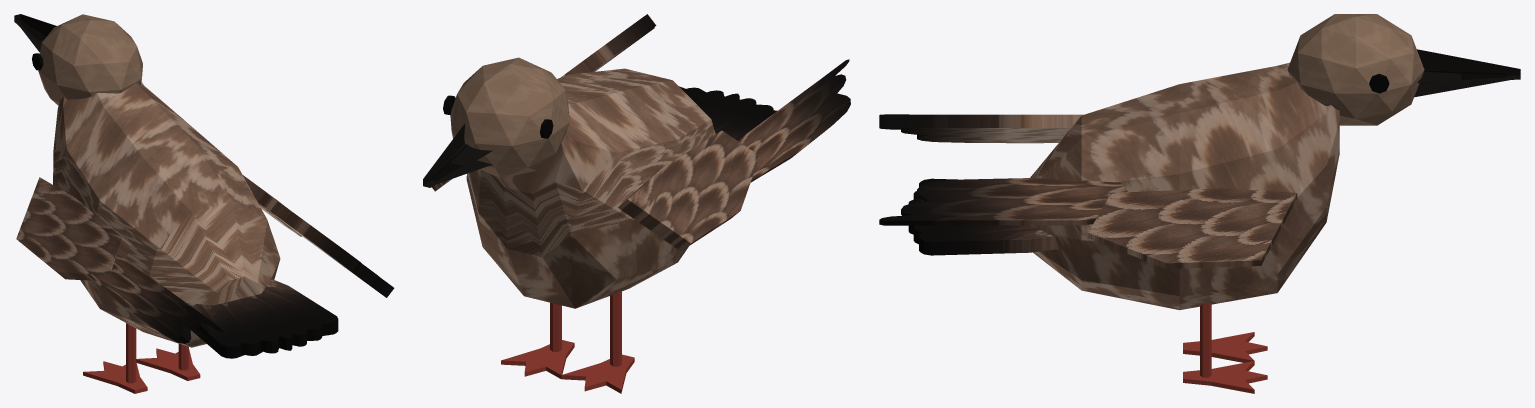
File: gull_juvenile.glb
3 renders of one model, left to right at view 1: azimuth 30°, elevation 25°; view 2: azimuth 150°, elevation 25°; view 3: azimuth 270°, elevation 25°, orthographic. The views are drawn at different scales.
Parts seen in each view (by area): view 1: body, tail, head, inner_mesh, outer_mesh, outer_mesh.001, foot, foot.001, shin, upper_bill_mesh, inner_mesh.001; view 2: body, head, inner_mesh, outer_mesh, tail, outer_mesh.001, foot, foot.001, upper_bill_mesh, shin, shin.001; view 3: body, inner_mesh.001, head, outer_mesh.001, outer_mesh, tail, upper_bill_mesh, foot.001, foot, shin.001, lower_bill_mesh.
Part boxes in pixels (box(x1,y1,x2,y2)): body: box(53, 81, 280, 347); tail: box(187, 279, 338, 358); head: box(38, 14, 142, 105); inner_mesh: box(16, 177, 130, 280); outer_mesh: box(87, 254, 223, 343); outer_mesh.001: box(258, 192, 394, 297); foot: box(83, 361, 147, 393); foot.001: box(136, 348, 200, 380); shin: box(126, 323, 136, 383); upper_bill_mesh: box(14, 14, 56, 46); inner_mesh.001: box(243, 175, 301, 236); body: box(466, 68, 715, 308); head: box(450, 57, 569, 178); inner_mesh: box(618, 130, 759, 251); outer_mesh: box(738, 59, 850, 182); tail: box(679, 86, 777, 140); outer_mesh.001: box(560, 14, 656, 77); foot: box(561, 354, 634, 393); foot.001: box(501, 340, 574, 378); upper_bill_mesh: box(423, 123, 492, 187); shin: box(610, 290, 621, 366); shin.001: box(550, 302, 561, 351); body: box(1030, 62, 1339, 310); inner_mesh.001: box(1088, 188, 1297, 268); head: box(1287, 14, 1424, 125); outer_mesh.001: box(879, 178, 1128, 225); outer_mesh: box(879, 114, 1083, 143); tail: box(908, 178, 1058, 255); upper_bill_mesh: box(1417, 49, 1520, 82); foot.001: box(1183, 361, 1267, 393); foot: box(1183, 332, 1267, 362); shin.001: box(1200, 302, 1211, 377); lower_bill_mesh: box(1414, 73, 1513, 97).
Size of the model in its own units: 0.5653 by 0.7062 by 1.18.
Materials: 1 (1 with a texture image).
